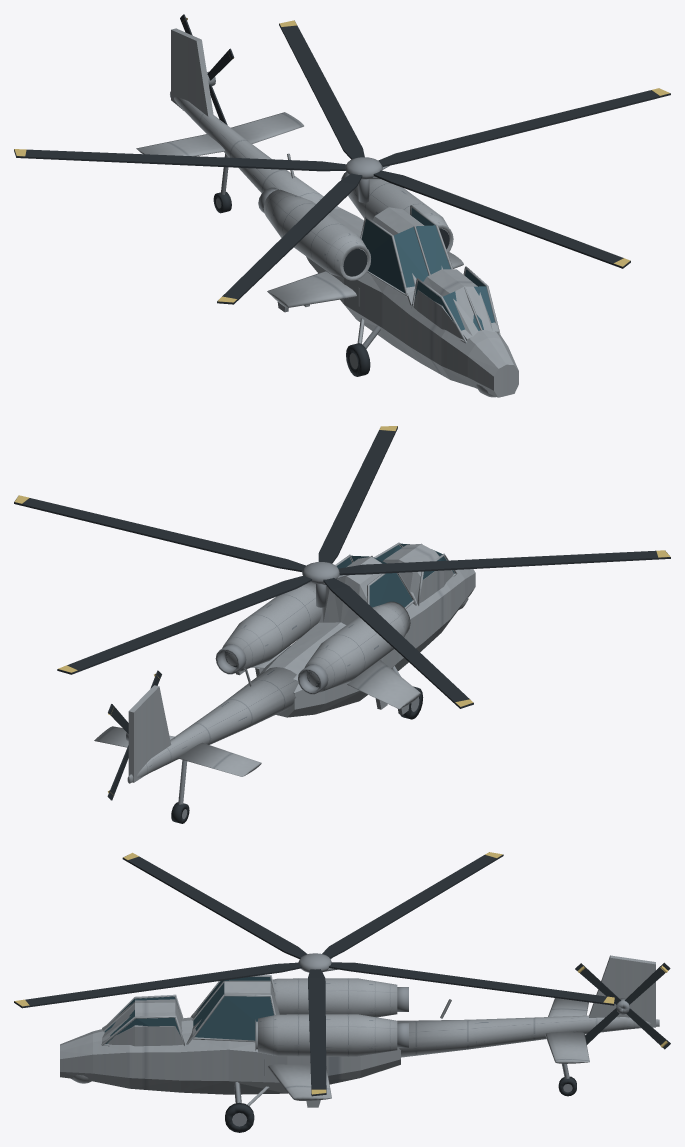
3 renders of one model, top to bottom at view 1: azimuth 30°, elevation 25°; view 2: azimuth 150°, elevation 25°; view 3: azimuth 270°, elevation 25°, orthographic. The views are drawn at different scales.
Visible parts, largest first — view 1: airframe_static, main_rotor_blade_assembly, tail_rotor_blade_assembly, main_wheel_L; view 2: airframe_static, main_rotor_blade_assembly, tail_rotor_blade_assembly; view 3: airframe_static, main_rotor_blade_assembly, tail_rotor_blade_assembly, main_wheel_R.
Boxes of the visible parts, box(x1,y1,x2,y2) form: airframe_static: box(136, 28, 518, 397); main_rotor_blade_assembly: box(14, 20, 670, 304); tail_rotor_blade_assembly: box(180, 14, 234, 125); main_wheel_L: box(346, 343, 370, 376); airframe_static: box(94, 542, 475, 804); main_rotor_blade_assembly: box(14, 426, 670, 708); tail_rotor_blade_assembly: box(107, 670, 161, 800); airframe_static: box(60, 955, 659, 1107); main_rotor_blade_assembly: box(14, 852, 615, 1096); tail_rotor_blade_assembly: box(575, 962, 670, 1049); main_wheel_R: box(225, 1102, 254, 1132).
Size of the model in its own units: 15.66 by 4.64 by 17.91.
5 materials, 1 textured.
